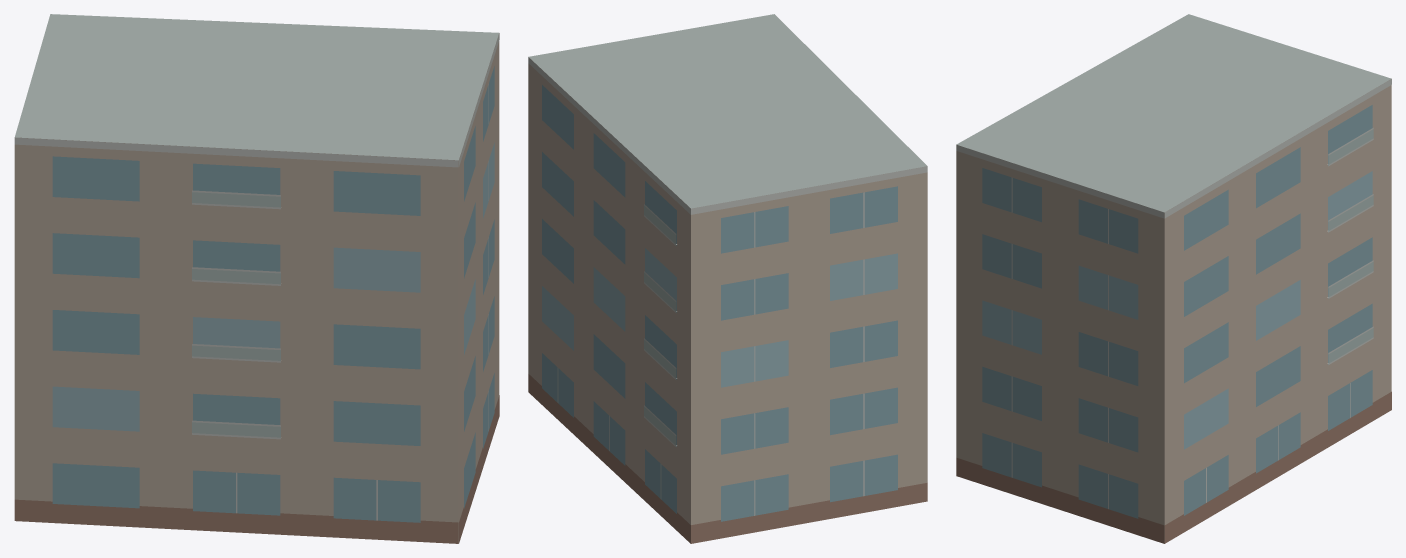
File: survey-upis-32657181.glb
The picture shows the model from 3 angles, left to right: view 1: azimuth 30°, elevation 25°; view 2: azimuth 150°, elevation 25°; view 3: azimuth 270°, elevation 25°; orthographic projection. The views are drawn at different scales.
Parts seen in each view (by area): view 1: survey-upis-32657181.tmp; view 2: survey-upis-32657181.tmp; view 3: survey-upis-32657181.tmp.
Boxes of the visible parts, x1,y1,x2,y2 form: survey-upis-32657181.tmp: (14,14,499,543); survey-upis-32657181.tmp: (528,14,927,543); survey-upis-32657181.tmp: (956,14,1391,543).
Size of the model in its own units: 16.77 by 13.05 by 15.55.
